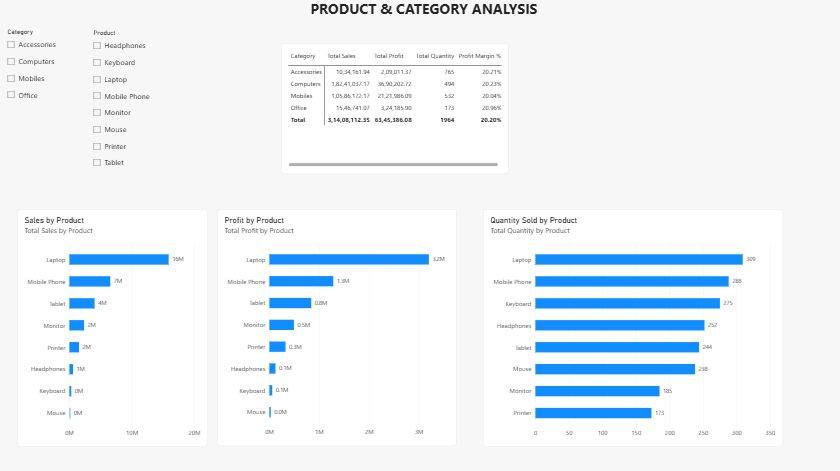

What the dashboard file says about the page in this screenshot:
{"tool":"powerbi","page":{"name":"Product Analysis","canvas":[1920,1080],"ordinal":1},"visuals":[{"type":"textbox","box":[11.1,0,1908.9,80],"z":0},{"type":"clusteredBarChart","title":"Sales by Product","fields":{"Category":["PowerBI_Retail_Sales_Dataset.Product"],"Y":["PowerBI_Retail_Sales_Dataset.Total Sales"]},"box":[12.2,395.6,434.4,307.8],"z":1},{"type":"clusteredBarChart","title":"Profit by Product","fields":{"Category":["PowerBI_Retail_Sales_Dataset.Product"],"Y":["PowerBI_Retail_Sales_Dataset.Total Profit"]},"box":[12.9,715.7,434.3,312.9],"z":2},{"type":"clusteredBarChart","title":"Quantity Sold by Product","fields":{"Category":["PowerBI_Retail_Sales_Dataset.Product"],"Y":["PowerBI_Retail_Sales_Dataset.Total Quantity"]},"box":[465.7,714.3,447.1,314.3],"z":3},{"type":"pivotTable","fields":{"Rows":["PowerBI_Retail_Sales_Dataset.Category"],"Values":["PowerBI_Retail_Sales_Dataset.Total Sales","PowerBI_Retail_Sales_Dataset.Total Profit","PowerBI_Retail_Sales_Dataset.Total Quantity","PowerBI_Retail_Sales_Dataset.Profit Margin %"]},"box":[492.9,390,531.4,298.6],"z":4},{"type":"slicer","fields":{"Values":["PowerBI_Retail_Sales_Dataset.Category"]},"box":[12,66,217.8,175.6],"z":5},{"type":"slicer","fields":{"Values":["PowerBI_Retail_Sales_Dataset.Product"]},"box":[206,67.3,418,328.7],"z":6}]}

Visuals, with their boxes in screenshot pixels (x1, y1, x2, y2), scaled from the page's 1920x1080 canvas onto the 840x471 screenshot:
textbox: {"left": 5, "top": 0, "right": 839, "bottom": 35}
"Sales by Product" clusteredBarChart: {"left": 5, "top": 173, "right": 195, "bottom": 307}
"Profit by Product" clusteredBarChart: {"left": 6, "top": 312, "right": 196, "bottom": 449}
"Quantity Sold by Product" clusteredBarChart: {"left": 204, "top": 312, "right": 399, "bottom": 449}
pivotTable - PowerBI_Retail_Sales_Dataset.Category x PowerBI_Retail_Sales_Dataset.Total Sales: {"left": 216, "top": 170, "right": 448, "bottom": 300}
slicer - PowerBI_Retail_Sales_Dataset.Category: {"left": 5, "top": 29, "right": 101, "bottom": 105}
slicer - PowerBI_Retail_Sales_Dataset.Product: {"left": 90, "top": 29, "right": 273, "bottom": 173}
